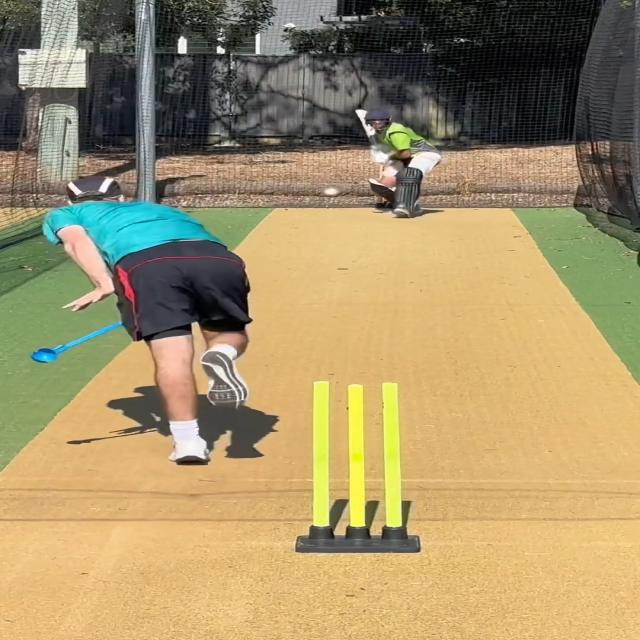ball: (318, 184, 344, 201)
stump: (295, 380, 423, 553)
